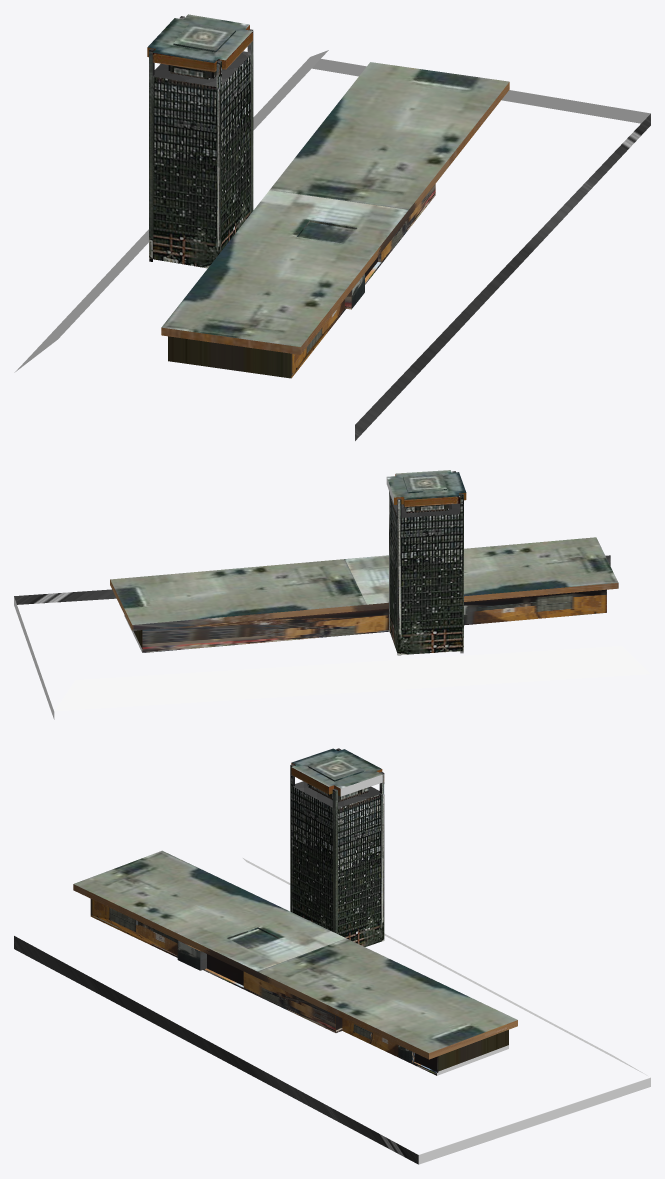
Rendered from edificio_diego_portales.glb.
3 views of the same model, one above another, from view 1: azimuth 30°, elevation 25°; view 2: azimuth 150°, elevation 25°; view 3: azimuth 270°, elevation 25° (orthographic). The views are drawn at different scales.
Visible parts, largest first — view 1: edificio_diego_portales; view 2: edificio_diego_portales; view 3: edificio_diego_portales.
Boxes of the visible parts, bbox=[...] form: edificio_diego_portales: bbox=[14, 14, 650, 440]; edificio_diego_portales: bbox=[14, 470, 650, 719]; edificio_diego_portales: bbox=[14, 748, 650, 1164].
Size of the model in its own units: 285 by 90.51 by 261.
Materials: 70 (69 with a texture image).
